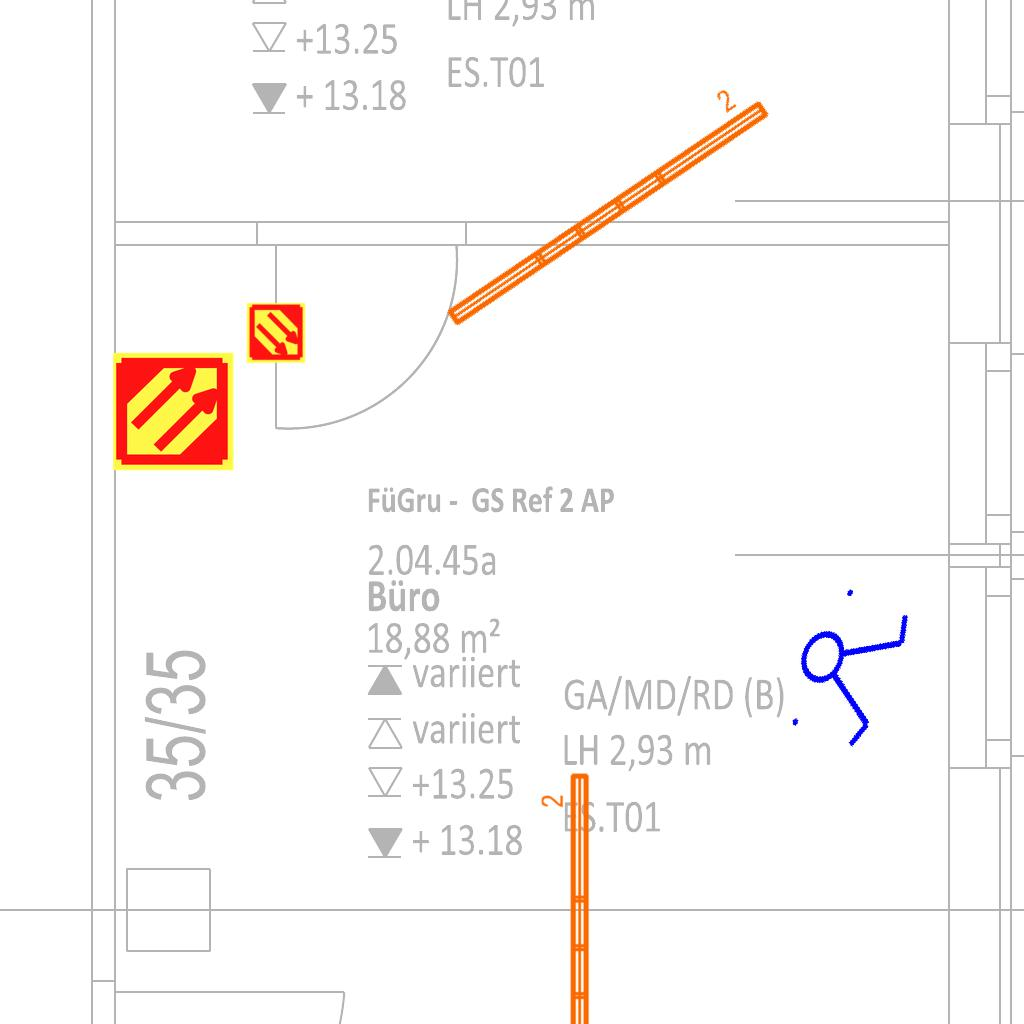ASR_Ansaugrauchmelder: (111, 349, 236, 474), (245, 302, 307, 364)
Ambulanz_Pendelleuchte_LED: (424, 71, 777, 335), (539, 769, 595, 1024)
Serienschalter: (769, 569, 925, 763)
